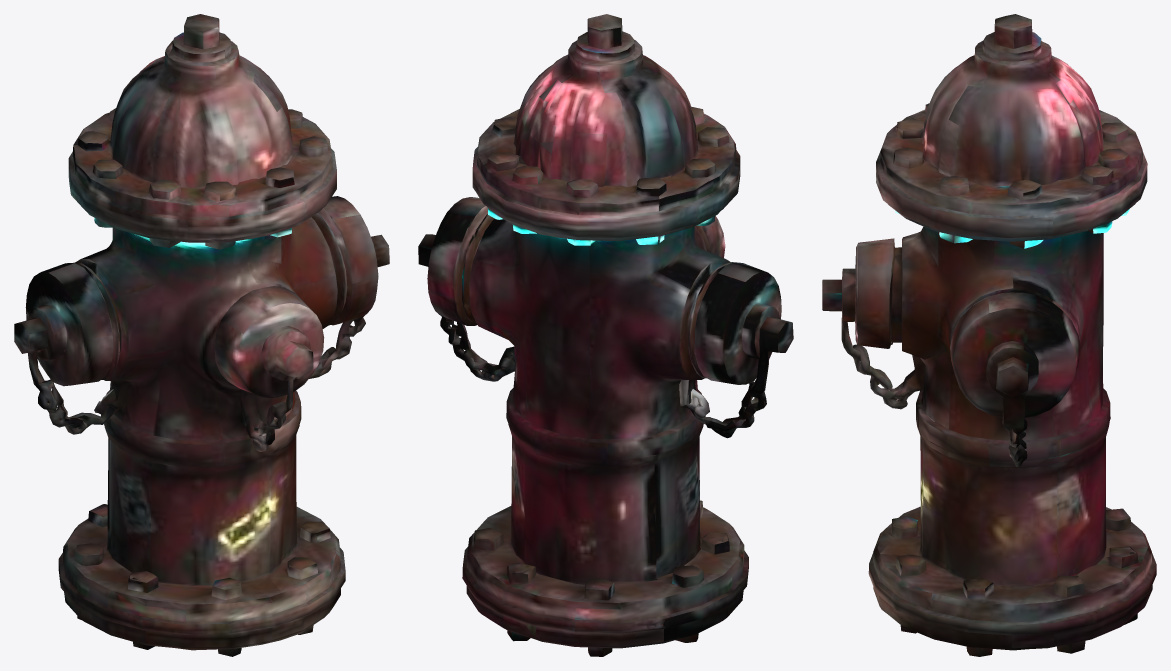
The model's file is preview.glb.
The picture shows the model from 3 angles, left to right: view 1: azimuth 30°, elevation 25°; view 2: azimuth 150°, elevation 25°; view 3: azimuth 270°, elevation 25°; orthographic projection.
Visible parts, largest first — view 1: SM_SM_AI_hydrant; view 2: SM_SM_AI_hydrant; view 3: SM_SM_AI_hydrant.
Part boxes in pixels (box(x1,y1,x2,y2)): SM_SM_AI_hydrant: box(14, 14, 389, 656); SM_SM_AI_hydrant: box(418, 14, 793, 656); SM_SM_AI_hydrant: box(822, 14, 1156, 656).
Bounding box in the file's own units: 0.5831 × 0.8998 × 0.4682.
Materials: 1 (1 with a texture image).
